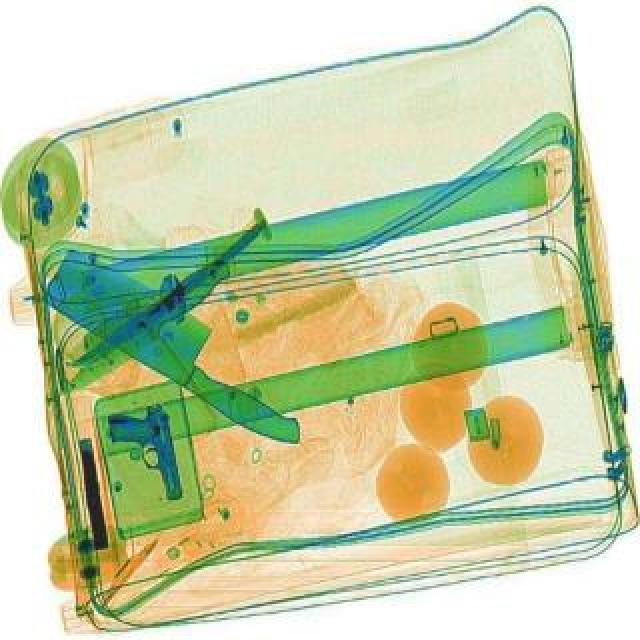gun: (106, 398, 184, 506), (74, 436, 108, 548)
knife: (32, 242, 332, 452), (66, 220, 272, 376), (44, 250, 238, 404)
